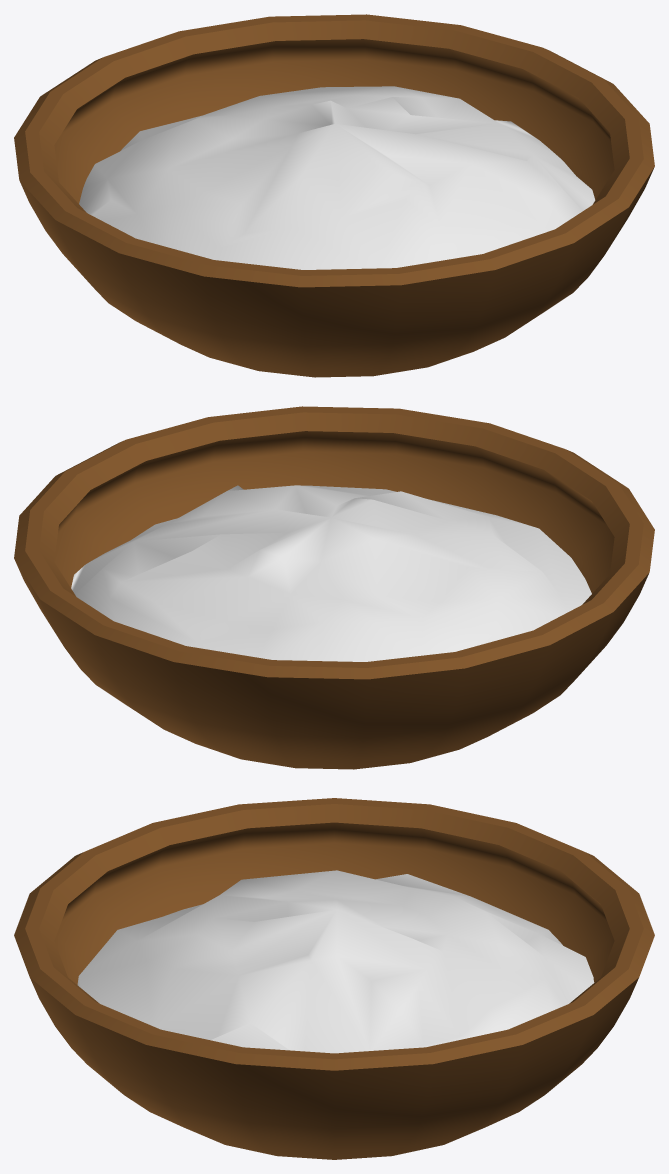
The model's file is mesh_bowl_salt.fbx.
3 views of the same model, one above another, from view 1: azimuth 30°, elevation 25°; view 2: azimuth 150°, elevation 25°; view 3: azimuth 270°, elevation 25° (orthographic).
Parts seen in each view (by area): view 1: mesh_bowl_salt; view 2: mesh_bowl_salt; view 3: mesh_bowl_salt.
Boxes of the visible parts, x1=… form: mesh_bowl_salt: x1=14, y1=14, x2=654, y2=377; mesh_bowl_salt: x1=14, y1=406, x2=654, y2=769; mesh_bowl_salt: x1=14, y1=798, x2=654, y2=1159.
Bounding box in the file's own units: 0.1378 × 0.041 × 0.1379.
